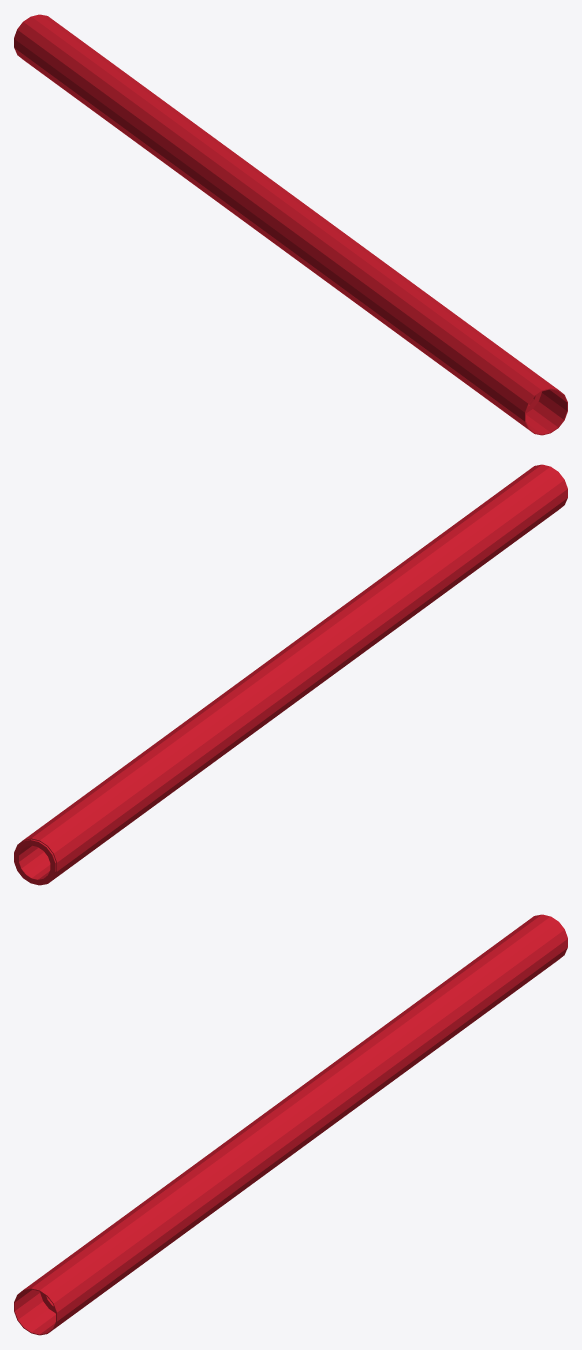
The picture shows the model from 3 angles, top to bottom: view 1: azimuth 30°, elevation 25°; view 2: azimuth 150°, elevation 25°; view 3: azimuth 330°, elevation 25°; orthographic projection.
Parts seen in each view (by area): view 1: 円柱.003; view 2: 円柱.003, 円柱.002; view 3: 円柱.003.
Part boxes in pixels (left/top/right/bottom): 円柱.003: left=14, top=14, right=567, bottom=435; 円柱.003: left=14, top=464, right=567, bottom=885; 円柱.002: left=14, top=839, right=56, bottom=885; 円柱.003: left=14, top=914, right=567, bottom=1335.
Size of the model in its own units: 51 by 51 by 1052.
